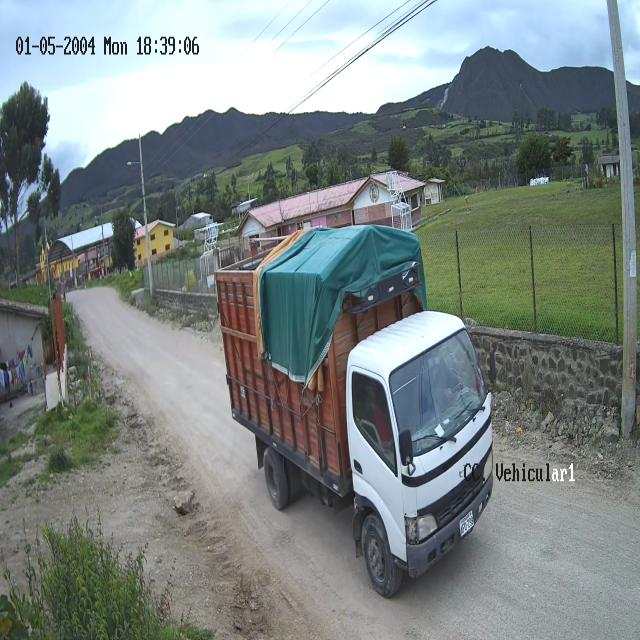TRUCK: (216, 222, 496, 599)
